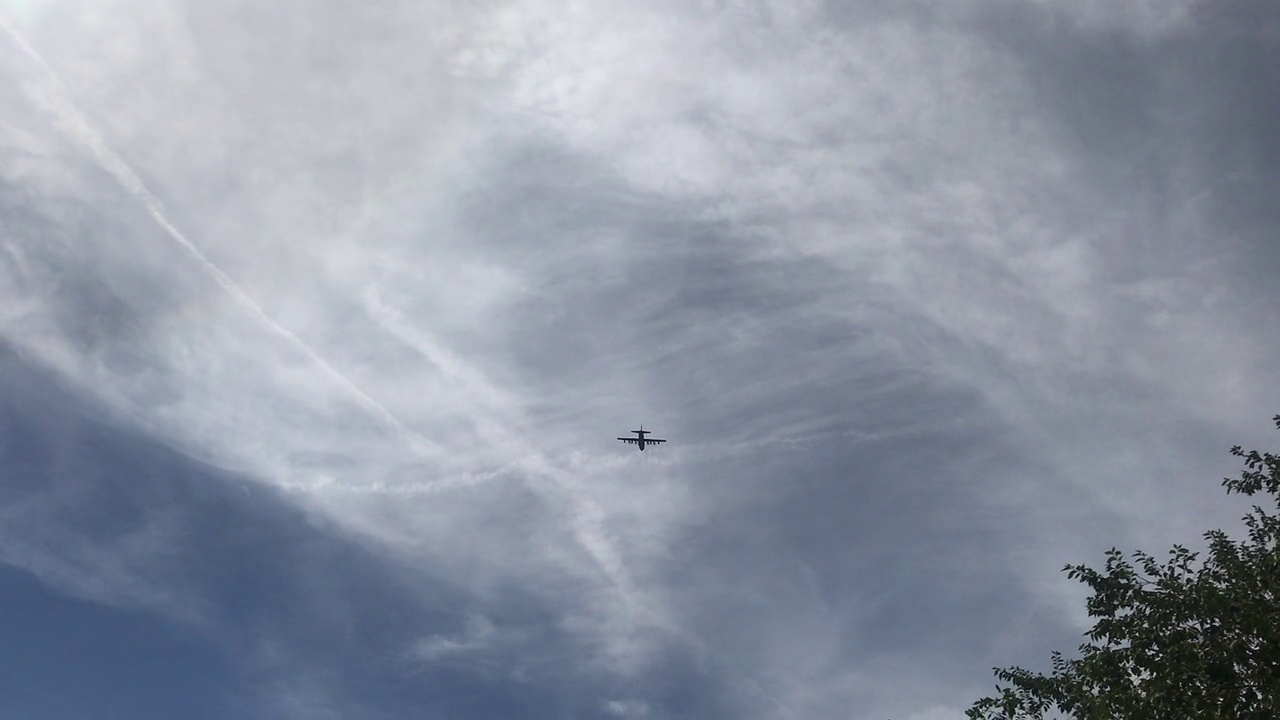plane: (617, 424, 667, 450)
